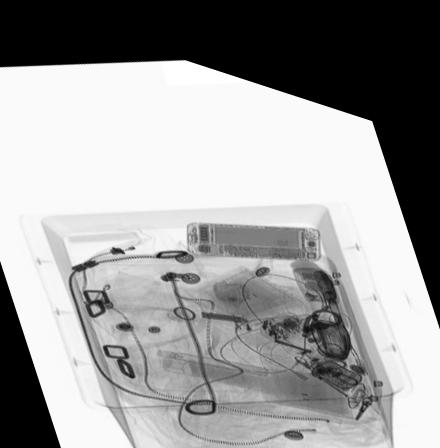Lighter: (226, 296, 254, 325)
